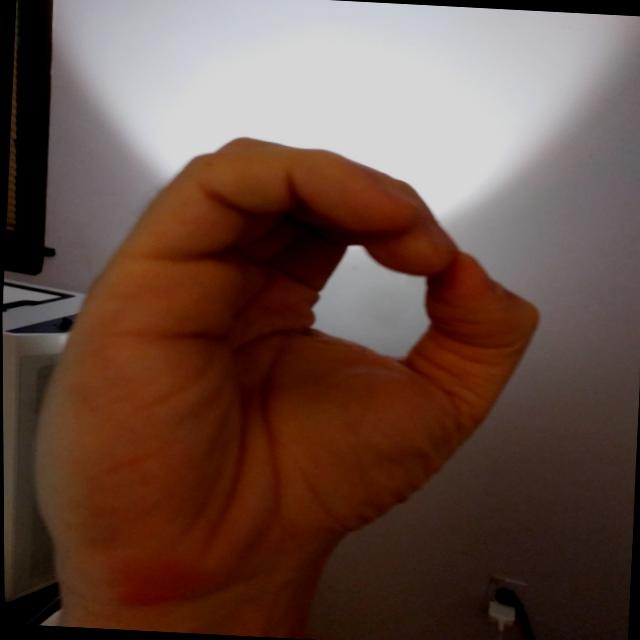O: (12, 121, 560, 624)
